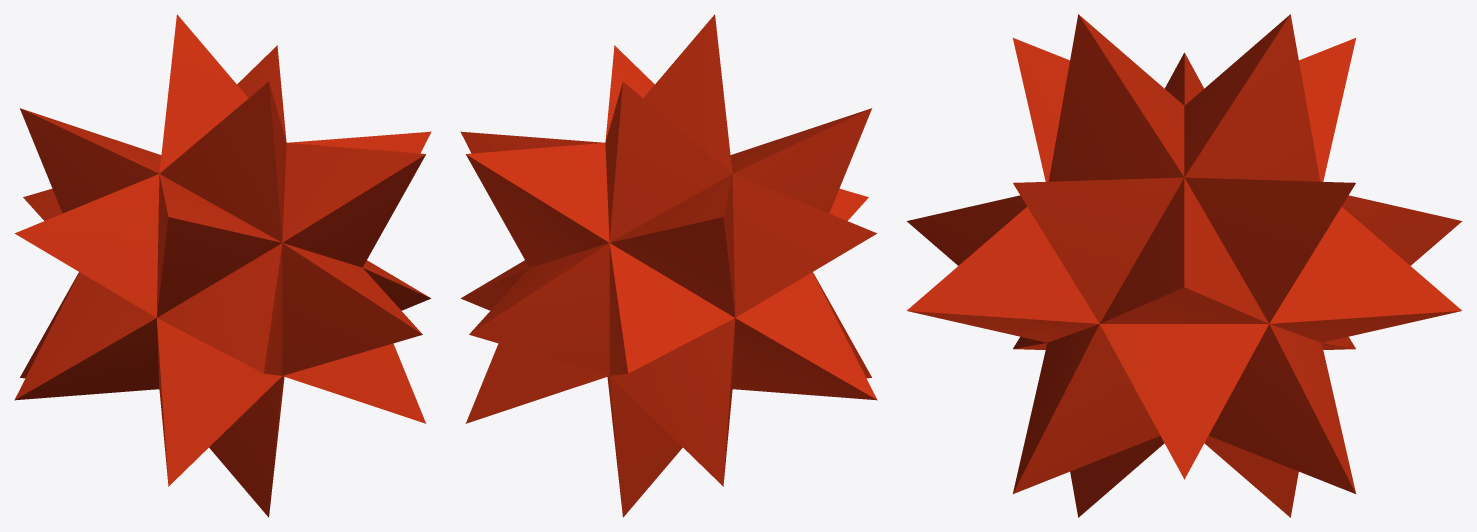
The model's file is DangerModel.dae.
3 renders of one model, left to right at view 1: azimuth 30°, elevation 25°; view 2: azimuth 150°, elevation 25°; view 3: azimuth 270°, elevation 25°, orthographic. The views are drawn at different scales.
Visible parts, largest first — view 1: icosahedronStar; view 2: icosahedronStar; view 3: icosahedronStar.
Boxes of the visible parts, left/top/right/bottom form: icosahedronStar: left=14, top=14, right=431, bottom=517; icosahedronStar: left=460, top=14, right=877, bottom=517; icosahedronStar: left=906, top=14, right=1462, bottom=517.
Bounding box in the file's own units: 3.28 × 3.28 × 3.28.
